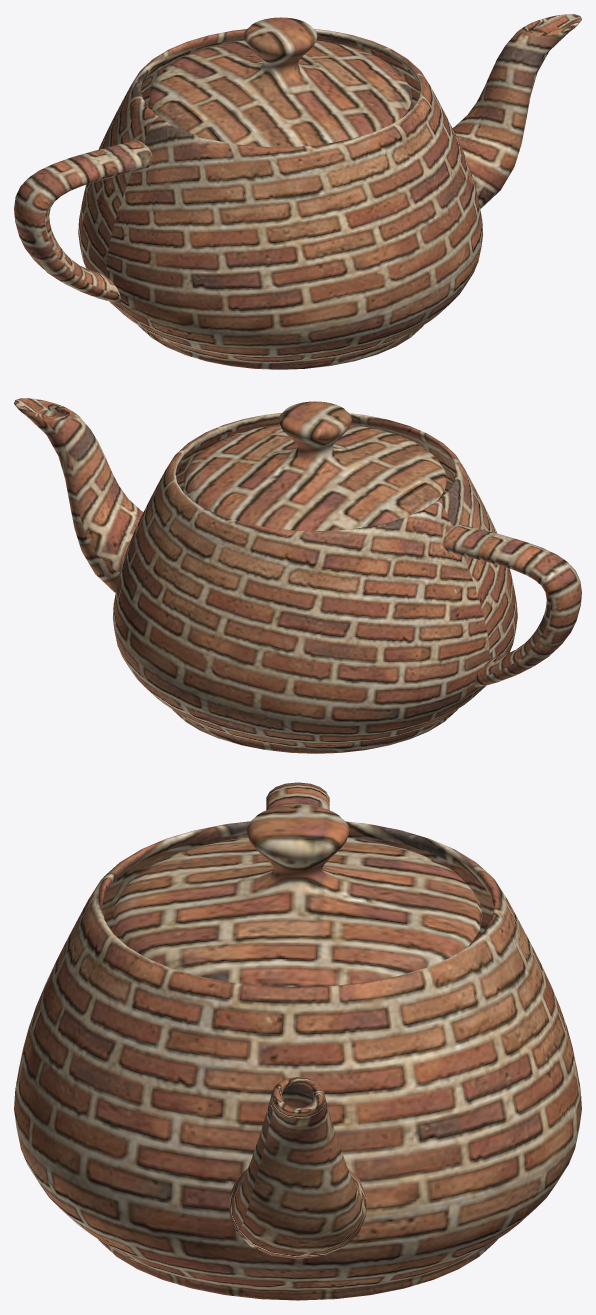
The model's file is teapot.FBX.
The picture shows the model from 3 angles, top to bottom: view 1: azimuth 30°, elevation 25°; view 2: azimuth 150°, elevation 25°; view 3: azimuth 270°, elevation 25°; orthographic projection. The views are drawn at different scales.
Visible parts, largest first — view 1: Teapot; view 2: Teapot; view 3: Teapot.
Boxes of the visible parts, left/top/right/bottom form: Teapot: left=14, top=14, right=581, bottom=369; Teapot: left=14, top=398, right=581, bottom=753; Teapot: left=14, top=782, right=581, bottom=1300.
Size of the model in its own units: 9.66 by 4.73 by 6.01.
Materials: 1 (1 with a texture image).
